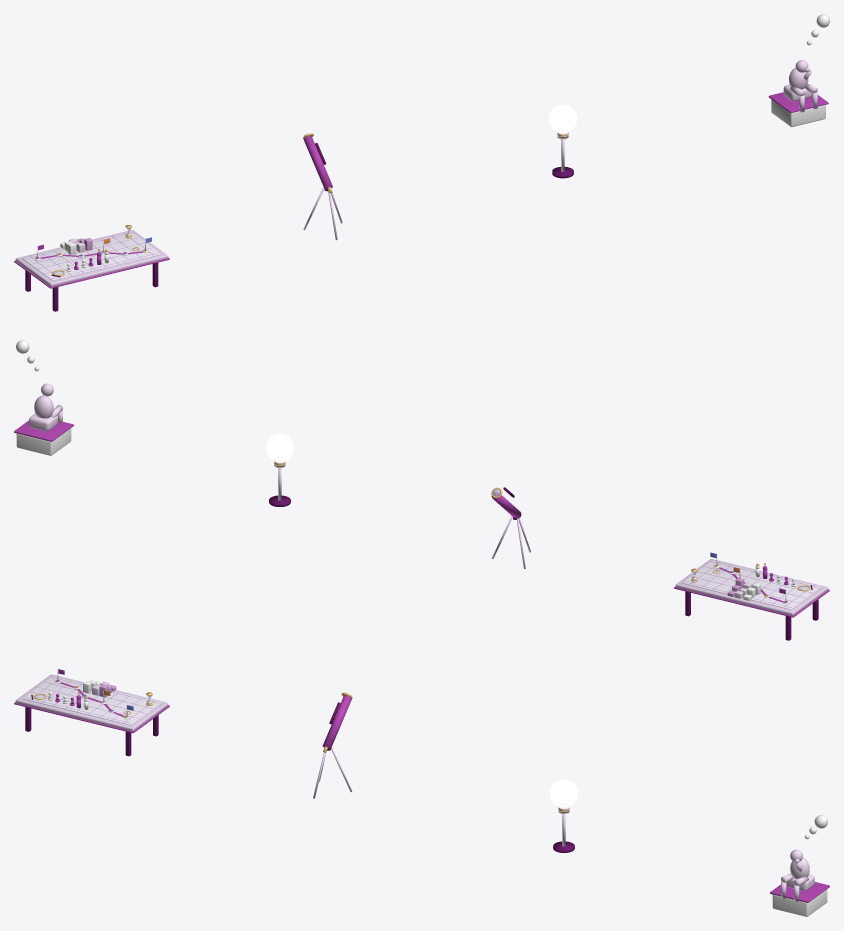
The model's file is strategy_a.glb.
3 views of the same model, one above another, from view 1: azimuth 30°, elevation 25°; view 2: azimuth 150°, elevation 25°; view 3: azimuth 330°, elevation 25° (orthographic).
Visible parts, largest first — view 1: Plan, TableTop, Plinth, Bulb, PlinthCap; view 2: Plan, TableTop, Plinth, Bulb, PlinthCap; view 3: Plan, TableTop, Plinth, Bulb, PlinthCap, Tube.
Part boxes in pixels (bbox=[...]): Plan: bbox=[22, 231, 161, 280]; TableTop: bbox=[15, 230, 168, 286]; Plinth: bbox=[771, 99, 825, 127]; Bulb: bbox=[549, 104, 577, 132]; PlinthCap: bbox=[768, 92, 828, 113]; Plan: bbox=[682, 560, 821, 609]; TableTop: bbox=[675, 558, 828, 615]; Plinth: bbox=[16, 428, 71, 455]; Bulb: bbox=[265, 433, 294, 461]; PlinthCap: bbox=[14, 420, 73, 441]; Plan: bbox=[22, 676, 161, 725]; TableTop: bbox=[15, 674, 168, 731]; Plinth: bbox=[772, 889, 827, 916]; Bulb: bbox=[549, 779, 578, 807]; PlinthCap: bbox=[770, 882, 829, 902]; Tube: bbox=[322, 695, 351, 749].
Bounding box in the file's own units: 27 × 3.15 × 2.35.
